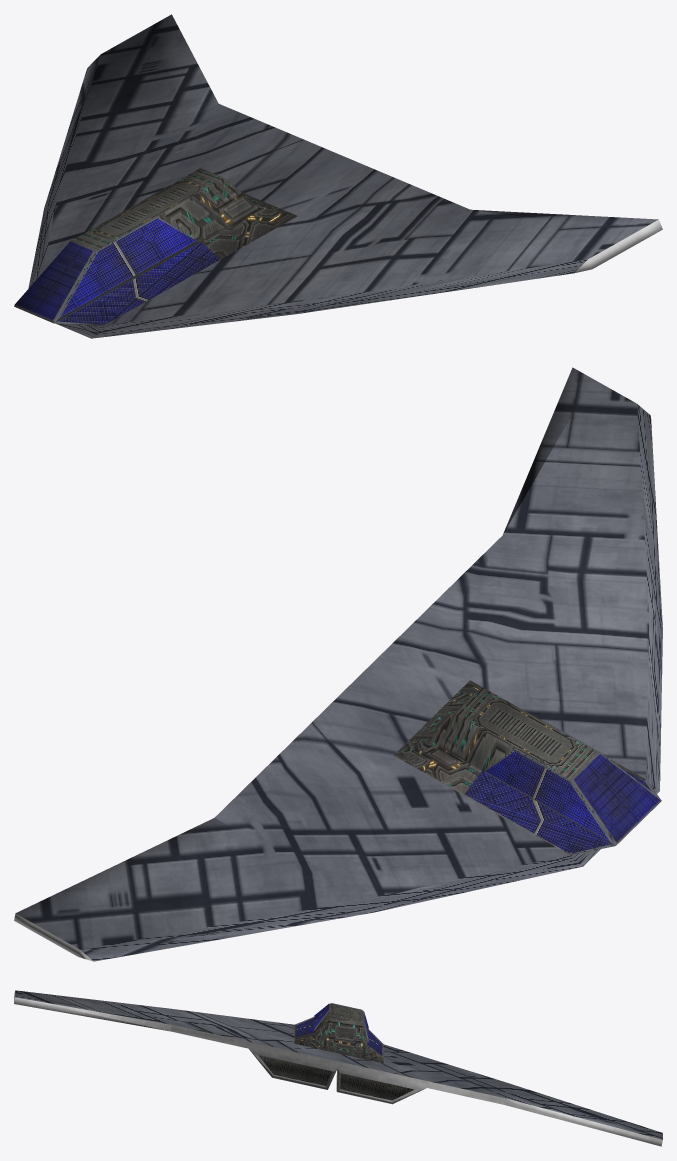
Rendered from SpaceShip6.obj.
3 renders of one model, top to bottom at view 1: azimuth 30°, elevation 25°; view 2: azimuth 150°, elevation 25°; view 3: azimuth 270°, elevation 25°, orthographic. The views are drawn at different scales.
Visible parts, largest first — view 1: BForge_Cha; view 2: BForge_Cha; view 3: BForge_Cha.
Part boxes in pixels (x1=…): BForge_Cha: x1=14, y1=14, x2=662, y2=338; BForge_Cha: x1=14, y1=367, x2=662, y2=961; BForge_Cha: x1=14, y1=990, x2=662, y2=1146.
Bounding box in the file's own units: 1.24 × 0.6955 × 2.84.
